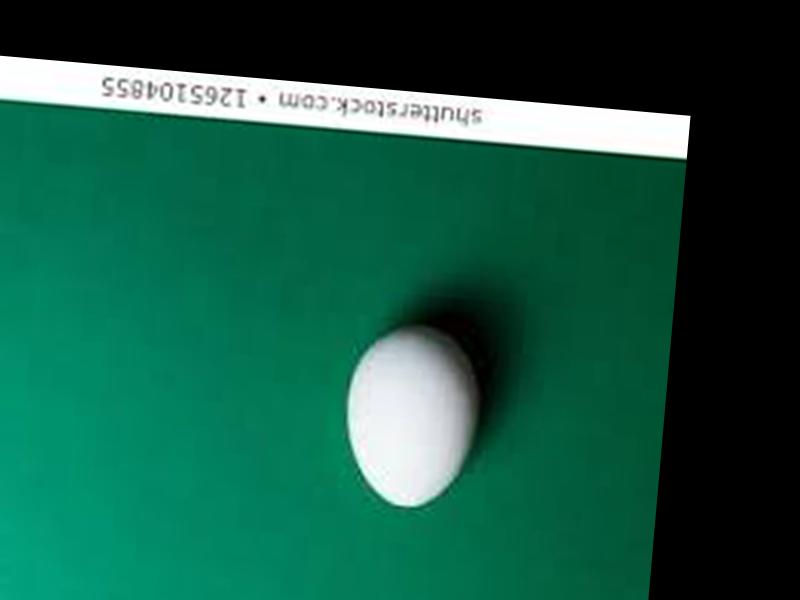Eggs: (333, 319, 480, 510)
